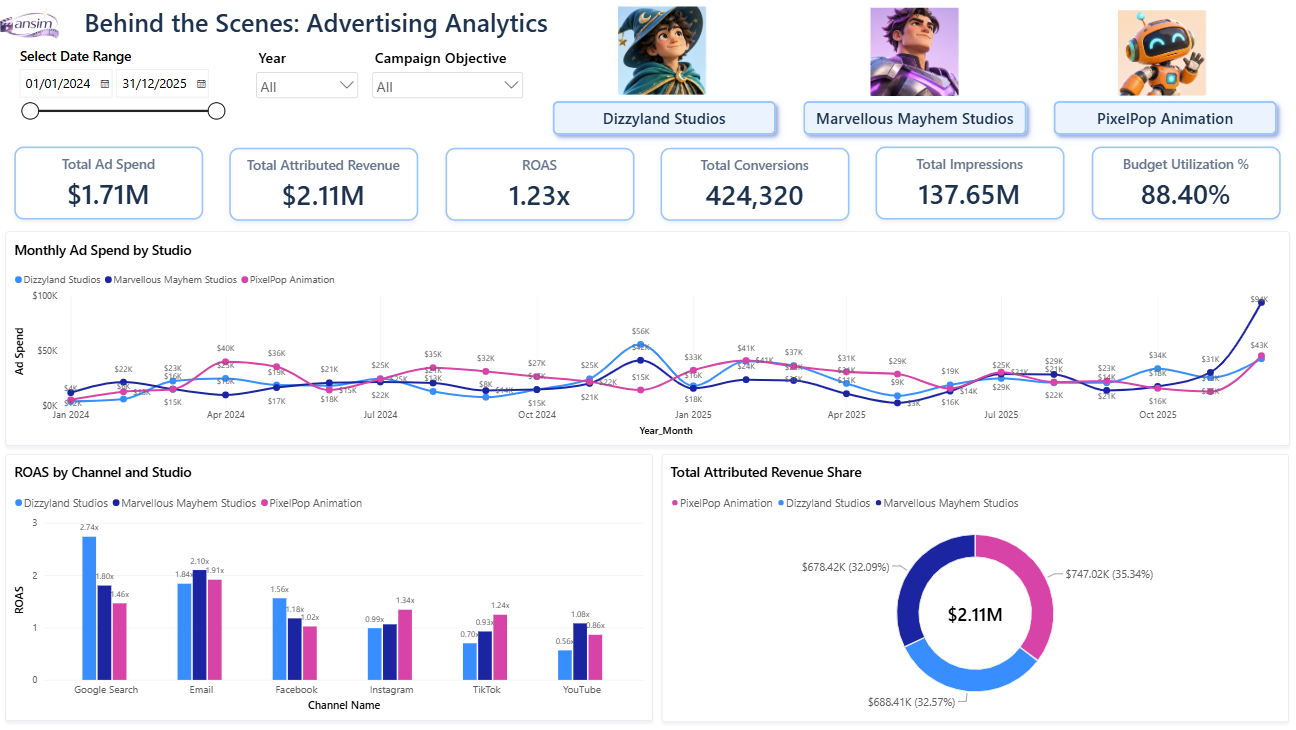

What the dashboard file says about the page in this screenshot:
{"tool":"powerbi","page":{"name":"2. Executive Overview","canvas":[1920,1080],"ordinal":1},"visuals":[{"type":"image","box":[916.4,11,130,130],"z":0},{"type":"image","box":[1654,16.3,130.3,130.3],"z":1000},{"type":"image","box":[1288.8,12.8,130,130],"z":2000},{"type":"advancedSlicerVisual","fields":{"Values":["Dim_Studio.Studio_Name"]},"box":[803.5,133.9,1103.9,82],"z":3000},{"type":"cardVisual","fields":{"Data":["_Measures.Total Ad Spend"]},"box":[23.9,218.8,279.3,107.7],"z":4000},{"type":"cardVisual","fields":{"Data":["_Measures.Total Attributed Revenue"]},"box":[342.1,219,279.3,107.7],"z":5000},{"type":"cardVisual","fields":{"Data":["_Measures.ROAS"]},"box":[660.4,219,279.3,107.7],"z":6000},{"type":"cardVisual","fields":{"Data":["_Measures.Total Conversions"]},"box":[978.6,219,279.3,107.7],"z":7000},{"type":"cardVisual","fields":{"Data":["_Measures.Budget Utilization %"]},"box":[1615.1,218.6,279.3,107.7],"z":8000},{"type":"cardVisual","fields":{"Data":["_Measures.Total Impressions"]},"box":[1296.8,218.6,279.3,107.7],"z":9000},{"type":"lineChart","title":"Monthly Ad Spend by Studio","fields":{"Category":["Dim_Date.Year_Month"],"Series":["Dim_Studio.Studio_Name"],"Y":["_Measures.Total Ad Spend"]},"box":[10.9,343.8,1896.5,316.7],"z":10000},{"type":"donutChart","title":"Total Attributed Revenue Share","fields":{"Category":["Dim_Studio.Studio_Name"],"Y":["_Measures.Total Attributed Revenue"]},"box":[980.8,671.4,926.5,396.3],"z":11000},{"type":"clusteredColumnChart","title":"ROAS by Channel and Studio","fields":{"Category":["Dim_Channel.Channel_Name"],"Series":["Dim_Studio.Studio_Name"],"Y":["_Measures.ROAS"]},"box":[10.9,671.4,956,394.5],"z":12000},{"type":"textbox","box":[126.7,9,705.8,56.1],"z":13000},{"type":"image","box":[1.8,0,89.9,73.4],"z":14000},{"type":"slicer","title":"Date","fields":{"Values":["Dim_Date.Date"]},"box":[24.5,69.7,314.7,143.2],"z":15000},{"type":"slicer","fields":{"Values":["Dim_Campaign.Campaign_Objective"]},"box":[548.4,71.6,231.8,122.5],"z":16000},{"type":"slicer","fields":{"Values":["Dim_Date.Year"]},"box":[376.9,71.6,160.2,122.5],"z":17000}]}

Visuals, with their boxes in screenshot pixels (x1, y1, x2, y2), scaled from the page's 1920x1080 canvas onto the 1296x730 screenshot:
image: locate(619, 7, 706, 95)
image: locate(1116, 11, 1204, 99)
image: locate(870, 9, 958, 97)
advancedSlicerVisual - Dim_Studio.Studio_Name: locate(542, 91, 1287, 146)
cardVisual - _Measures.Total Ad Spend: locate(16, 148, 205, 221)
cardVisual - _Measures.Total Attributed Revenue: locate(231, 148, 419, 221)
cardVisual - _Measures.ROAS: locate(446, 148, 634, 221)
cardVisual - _Measures.Total Conversions: locate(661, 148, 849, 221)
cardVisual - _Measures.Budget Utilization %: locate(1090, 148, 1279, 221)
cardVisual - _Measures.Total Impressions: locate(875, 148, 1064, 221)
"Monthly Ad Spend by Studio" lineChart: locate(7, 232, 1287, 446)
"Total Attributed Revenue Share" donutChart: locate(662, 454, 1287, 722)
"ROAS by Channel and Studio" clusteredColumnChart: locate(7, 454, 653, 720)
textbox: locate(86, 6, 562, 44)
image: locate(1, 0, 62, 50)
"Date" slicer: locate(17, 47, 229, 144)
slicer - Dim_Campaign.Campaign_Objective: locate(370, 48, 527, 131)
slicer - Dim_Date.Year: locate(254, 48, 363, 131)
